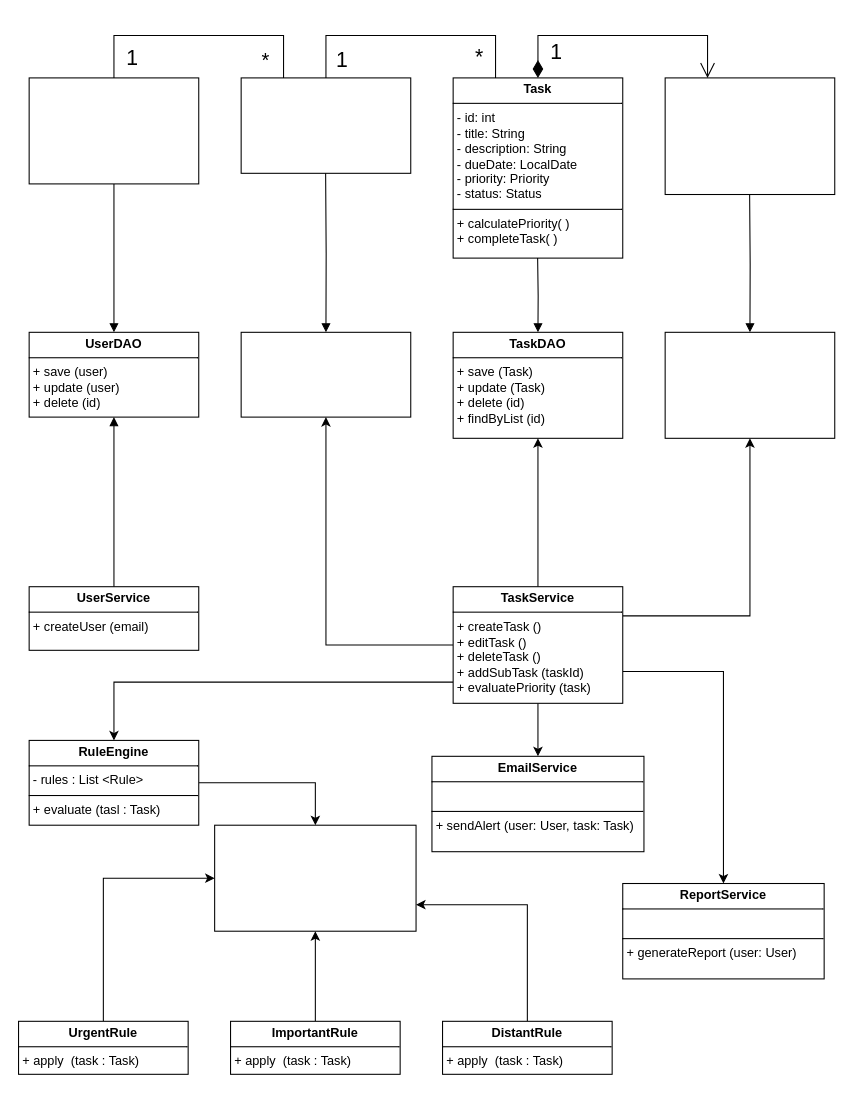
Some shapes in this 853 by 1093 pixel diagram are drawn without their labels. The centre of each missing label's shape, as x and y in pixels:
"<<Interface>> Rule + apply (task : Task)" belongs at [315,877].
"SubTask -id: int -title: String -status: Status + completeSubTask( )" belongs at [749,136].
"SubTaskDAO + save (Task) + update (Task) + delete (id) + findByList (id)" belongs at [749,384].
"TaskList - id: int - name: String + addTask ( task: Task)" belongs at [325,125].
"TaskListDAO + save (TaskList) + delete (id)" belongs at [325,374].
"User - id: int - name: String - email: String" belongs at [113,130].
